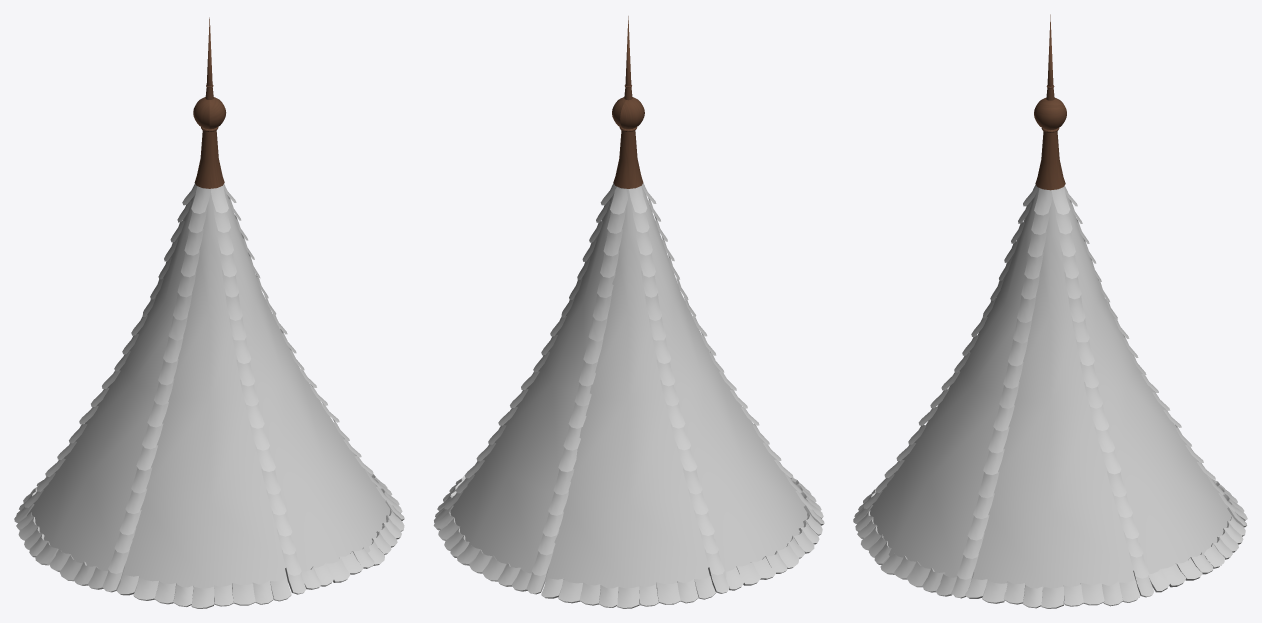
File: Tower_Roof.fbx
3 renders of one model, left to right at view 1: azimuth 30°, elevation 25°; view 2: azimuth 150°, elevation 25°; view 3: azimuth 270°, elevation 25°, orthographic.
Parts seen in each view (by area): view 1: Tower_Roof.047; view 2: Tower_Roof.047; view 3: Tower_Roof.047.
Part boxes in pixels (x1=…): Tower_Roof.047: x1=14, y1=17, x2=404, y2=608; Tower_Roof.047: x1=433, y1=16, x2=824, y2=608; Tower_Roof.047: x1=853, y1=14, x2=1247, y2=608.
Bounding box in the file's own units: 9.52 × 13.75 × 9.52.
